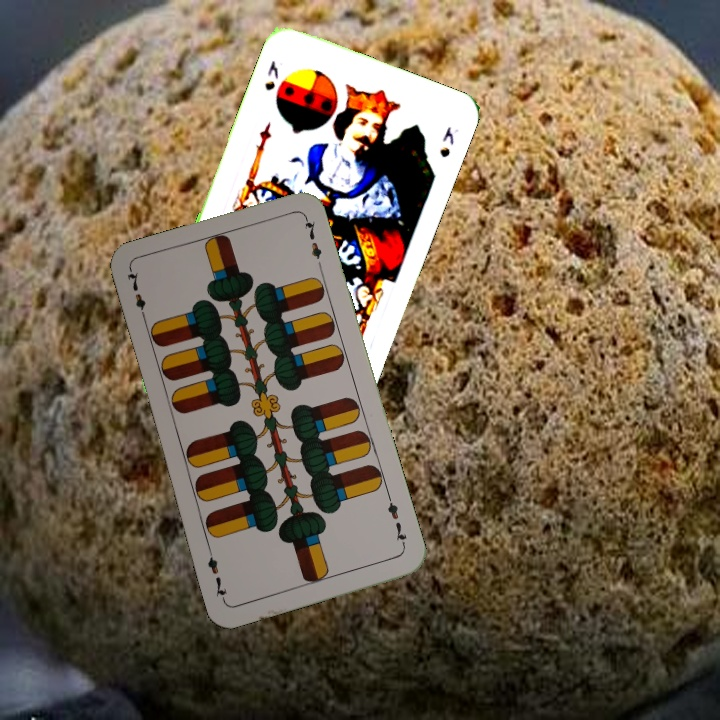E7: (383, 492, 410, 551), (123, 267, 149, 325)
SK: (260, 56, 282, 93)
